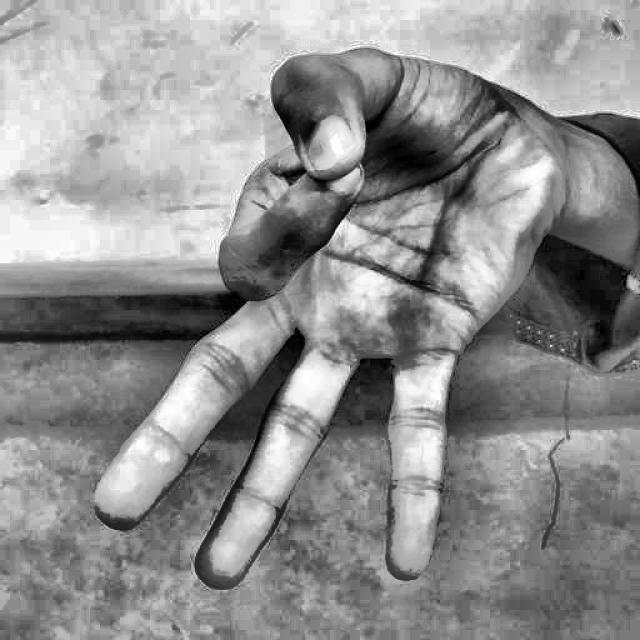Fa: (77, 35, 590, 611)
